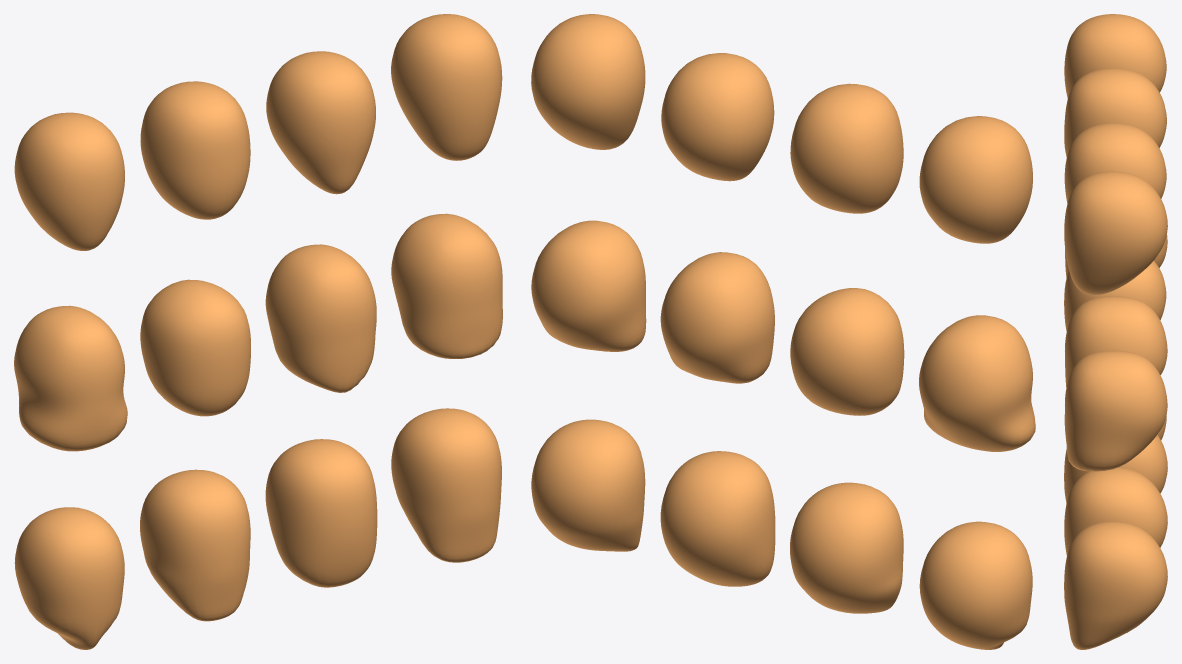
Rendered from Head.fbx.
3 views of the same model, side by side, from view 1: azimuth 30°, elevation 25°; view 2: azimuth 150°, elevation 25°; view 3: azimuth 270°, elevation 25° (orthographic). The views are drawn at different scales.
Parts seen in each view (by area): view 1: head.012, head.011, head.005, head.010, head.008, head.007, head.004, head.006, head.002, head.009, head.003, head.001; view 2: head.005, head.011, head.012, head.008, head.010, head.004, head.007, head.002, head.006, head.009, head.001, head.003; view 3: head.012, head.008, head.004, head.002, head.007, head.011, head.001, head.003, head.006, head.010, head.005.
Boxes of the visible parts, x1=… form: head.012: x1=391, y1=408, x2=501, y2=562; head.011: x1=265, y1=439, x2=377, y2=587; head.005: x1=14, y1=305, x2=127, y2=451; head.010: x1=140, y1=469, x2=250, y2=621; head.008: x1=391, y1=213, x2=502, y2=358; head.007: x1=265, y1=244, x2=376, y2=392; head.004: x1=391, y1=14, x2=502, y2=160; head.006: x1=140, y1=279, x2=250, y2=416; head.002: x1=140, y1=81, x2=250, y2=219; head.009: x1=14, y1=507, x2=124, y2=649; head.003: x1=266, y1=51, x2=375, y2=194; head.001: x1=14, y1=112, x2=124, y2=250; head.005: x1=919, y1=315, x2=1035, y2=451; head.011: x1=660, y1=451, x2=775, y2=586; head.012: x1=531, y1=419, x2=645, y2=551; head.008: x1=531, y1=220, x2=646, y2=351; head.010: x1=790, y1=482, x2=903, y2=613; head.004: x1=531, y1=14, x2=645, y2=149; head.007: x1=660, y1=252, x2=774, y2=383; head.002: x1=790, y1=83, x2=903, y2=213; head.006: x1=790, y1=288, x2=904, y2=415; head.009: x1=919, y1=521, x2=1032, y2=649; head.001: x1=919, y1=116, x2=1032, y2=243; head.003: x1=661, y1=53, x2=774, y2=181; head.012: x1=1064, y1=521, x2=1167, y2=649; head.008: x1=1065, y1=350, x2=1167, y2=471; head.004: x1=1064, y1=171, x2=1167, y2=294; head.002: x1=1064, y1=68, x2=1166, y2=157; head.007: x1=1065, y1=296, x2=1167, y2=387; head.011: x1=1064, y1=467, x2=1167, y2=555; head.001: x1=1064, y1=14, x2=1166, y2=98; head.003: x1=1064, y1=123, x2=1166, y2=203; head.006: x1=1064, y1=260, x2=1166, y2=331; head.010: x1=1064, y1=435, x2=1167, y2=503; head.005: x1=1065, y1=234, x2=1167, y2=277.
Size of the model in its own units: 67.84 by 72.37 by 14.57.
